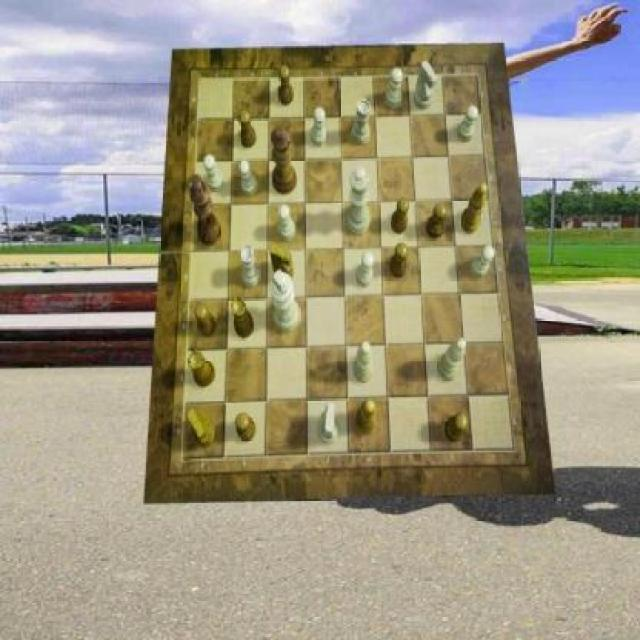bishop: (462, 181, 488, 234), (355, 398, 378, 434)
black-bishop: (190, 174, 222, 246)
black-king: (188, 409, 218, 448), (270, 246, 294, 285)
black-knight: (195, 303, 218, 337), (426, 204, 447, 240), (444, 414, 468, 443), (391, 198, 410, 234), (239, 109, 256, 148), (278, 66, 294, 106), (391, 242, 408, 278), (237, 414, 257, 441)
black-pawn: (271, 127, 297, 196)
black-queen: (189, 349, 217, 387), (231, 295, 254, 338)
black-rook: (437, 338, 466, 381), (354, 341, 374, 384)
white-bishop: (269, 271, 299, 333)
white-king: (414, 60, 438, 109), (317, 404, 339, 444)
white-knight: (471, 244, 495, 278), (457, 106, 479, 142), (204, 155, 224, 193), (238, 159, 258, 196), (386, 69, 403, 109), (355, 252, 373, 288), (311, 108, 327, 148), (279, 204, 296, 240)
white-pawn: (346, 167, 371, 236)
white-queen: (238, 244, 261, 288), (352, 99, 372, 146)
